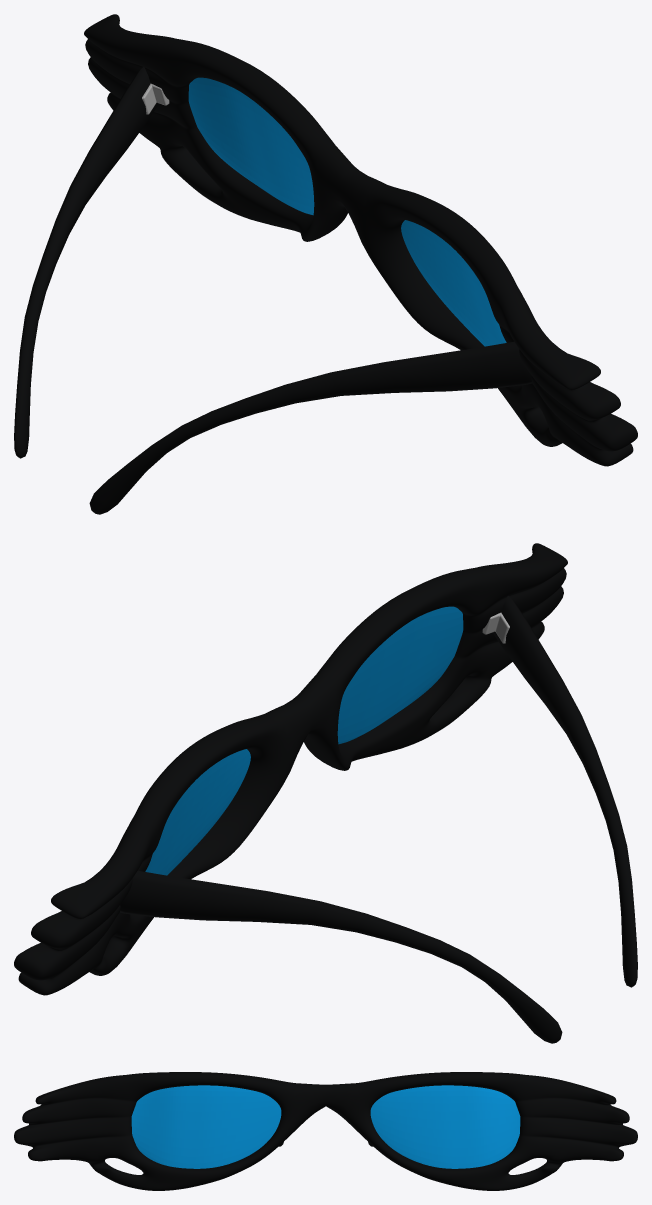
The model's file is glasses_v2.glb.
3 views of the same model, one above another, from view 1: azimuth 30°, elevation 25°; view 2: azimuth 150°, elevation 25°; view 3: azimuth 270°, elevation 25° (orthographic). The views are drawn at different scales.
Visible parts, largest first — view 1: ARMACAO, LENTE; view 2: ARMACAO, LENTE; view 3: ARMACAO, LENTE.
Boxes of the visible parts, box(x1,y1,x2,y2) form: ARMACAO: box(14, 14, 637, 514); LENTE: box(188, 77, 506, 346); ARMACAO: box(14, 543, 637, 1043); LENTE: box(145, 606, 463, 875); ARMACAO: box(14, 1072, 637, 1190); LENTE: box(131, 1085, 520, 1168).
Size of the model in its own units: 4.03 by 2.89 by 10.27.
